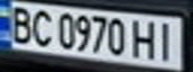0: (51, 9, 75, 51), (106, 15, 130, 56)
7: (87, 12, 109, 54)
9: (72, 11, 93, 52)
B: (3, 2, 36, 44)
C: (27, 7, 57, 47)
H: (127, 17, 160, 61)
I: (151, 19, 181, 62)
